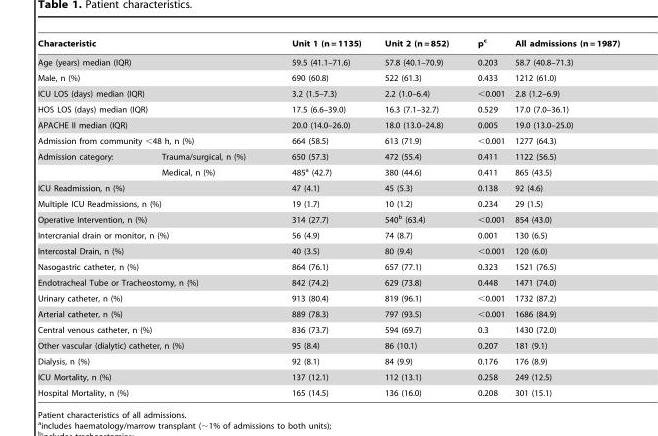table: (37, 37, 619, 397)
table column: (136, 37, 268, 397), (509, 37, 619, 397), (268, 37, 372, 397), (37, 37, 136, 397), (372, 37, 462, 397), (462, 37, 509, 397)
table column header: (37, 37, 619, 52)
table row: (37, 52, 619, 69), (37, 163, 619, 180), (37, 210, 619, 227), (37, 69, 619, 85), (37, 85, 619, 101), (37, 101, 619, 117), (37, 132, 619, 148), (37, 227, 619, 243), (37, 258, 619, 274), (37, 274, 619, 290), (37, 290, 619, 306), (37, 321, 619, 337), (37, 337, 619, 353), (37, 353, 619, 369), (37, 37, 619, 52), (37, 117, 619, 132), (37, 148, 619, 163), (37, 180, 619, 195), (37, 195, 619, 210), (37, 243, 619, 258), (37, 306, 619, 321), (37, 369, 619, 384), (37, 384, 619, 397)
table spanning cell: (37, 52, 268, 69), (37, 210, 268, 227), (37, 69, 268, 85), (37, 85, 268, 101), (37, 101, 268, 117), (37, 132, 268, 148), (37, 227, 268, 243), (37, 258, 268, 274), (37, 274, 268, 290), (37, 290, 268, 306), (37, 321, 268, 337), (37, 337, 268, 353), (37, 353, 268, 369), (37, 37, 268, 52), (37, 117, 268, 132), (37, 180, 268, 195), (37, 195, 268, 210), (37, 243, 268, 258), (37, 306, 268, 321), (37, 369, 268, 384), (37, 148, 136, 180), (37, 384, 268, 397)
